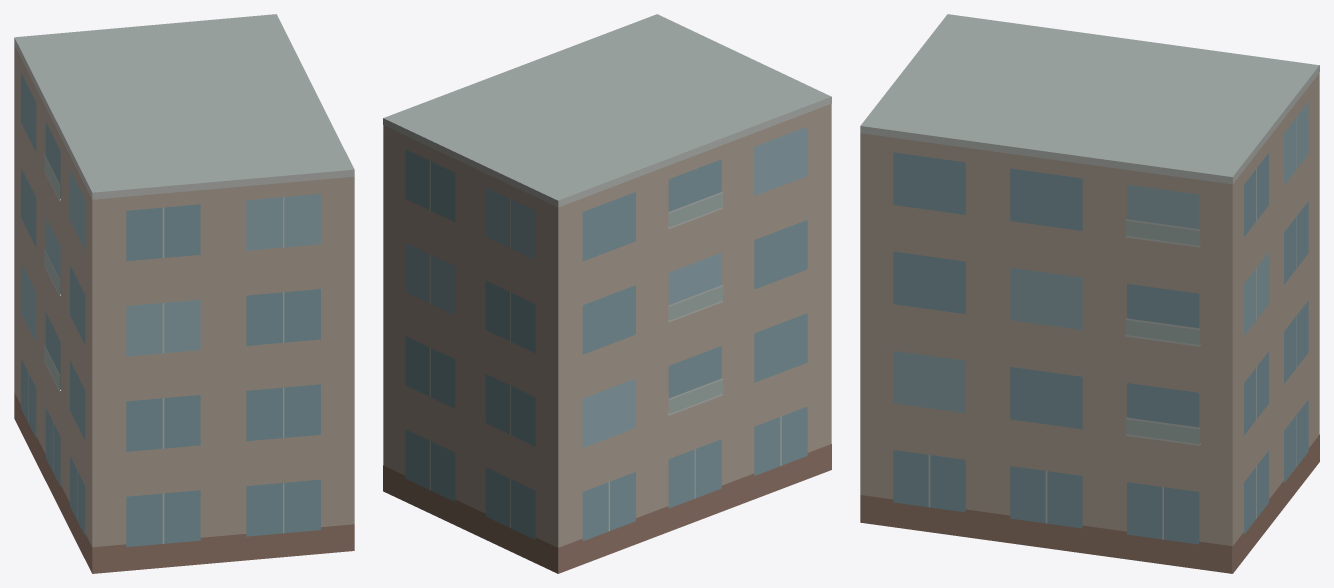
The model's file is survey-upis-32803411.glb.
3 views of the same model, side by side, from view 1: azimuth 30°, elevation 25°; view 2: azimuth 150°, elevation 25°; view 3: azimuth 270°, elevation 25° (orthographic). The views are drawn at different scales.
Visible parts, largest first — view 1: survey-upis-32803411.tmp; view 2: survey-upis-32803411.tmp; view 3: survey-upis-32803411.tmp.
Boxes of the visible parts, x1,y1,x2,y2 form: survey-upis-32803411.tmp: [14, 14, 354, 573]; survey-upis-32803411.tmp: [383, 14, 831, 573]; survey-upis-32803411.tmp: [860, 14, 1319, 573].
Size of the model in its own units: 11.74 by 13.3 by 13.97.
